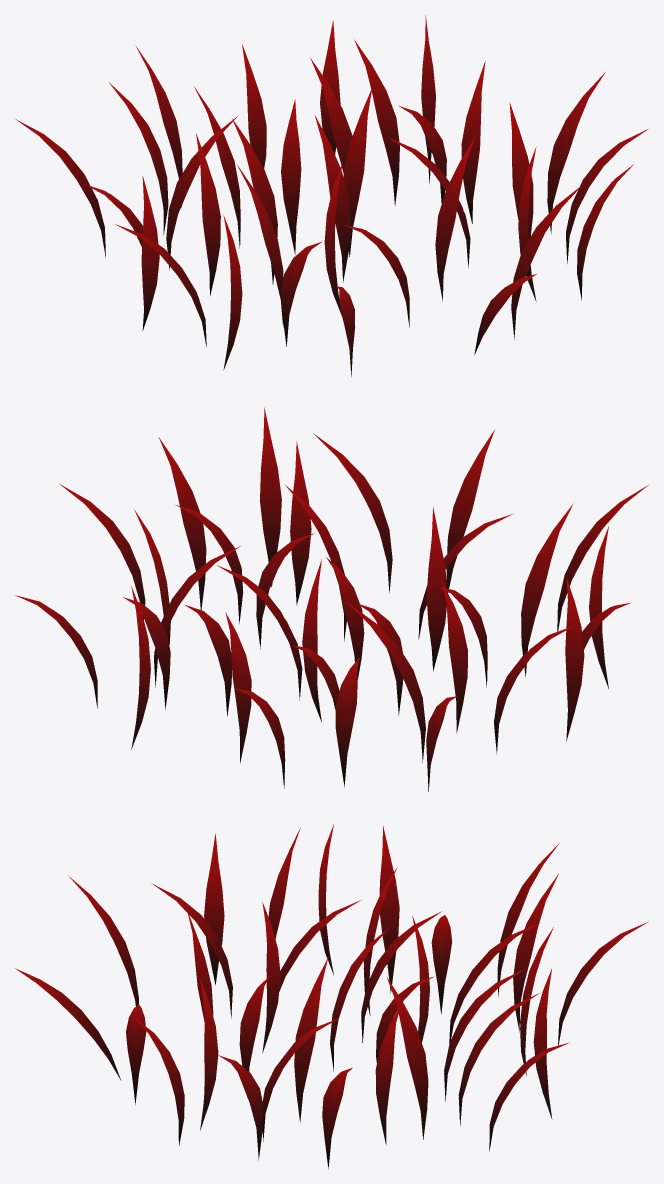
Rendered from Grass.fbx.
3 renders of one model, top to bottom at view 1: azimuth 30°, elevation 25°; view 2: azimuth 150°, elevation 25°; view 3: azimuth 270°, elevation 25°, orthographic. The views are drawn at different scales.
Parts seen in each view (by area): view 1: grass; view 2: grass; view 3: grass.
Boxes of the visible parts, box(x1,y1,x2,y2) form: grass: box(15, 15, 647, 376); grass: box(15, 407, 648, 791); grass: box(15, 824, 648, 1169).
Bounding box in the file's own units: 415 × 122 × 450.
